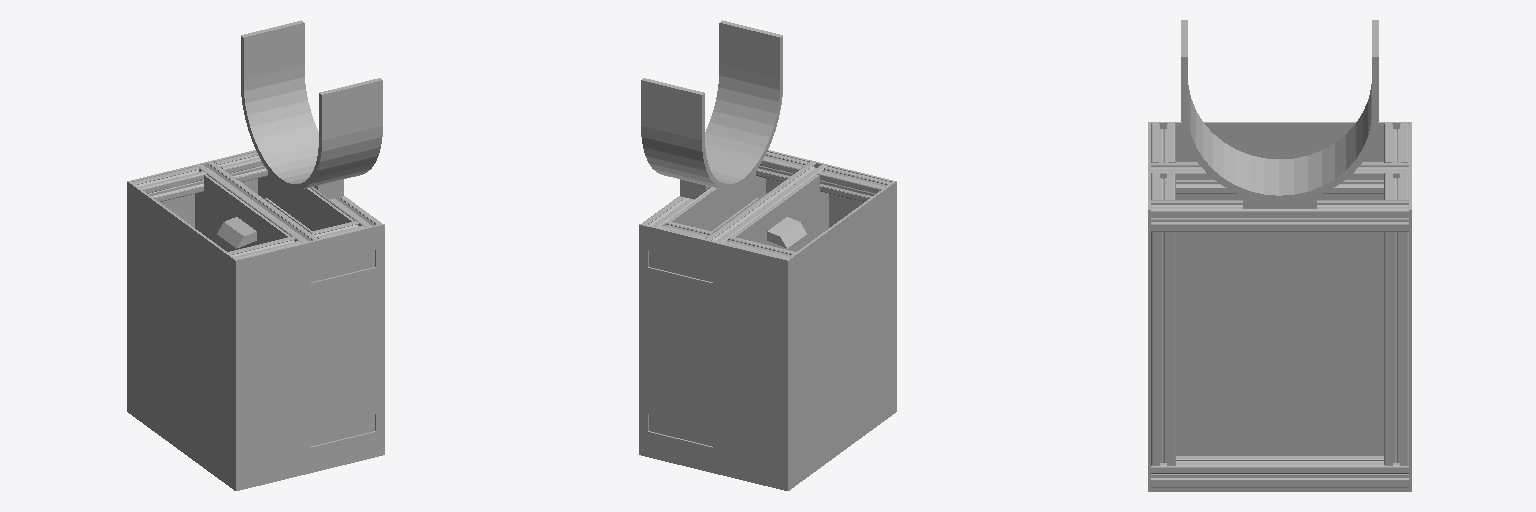
URDF robot description (051410):
<?xml version="1.0" encoding="utf-8"?>
<!-- This URDF was automatically created by SolidWorks to URDF Exporter! Originally created by [author] ([email redacted]) 
     Commit Version: 1.5.1-0-g916b5db  Build Version: 1.5.7152.31018
     For more information, please see http://wiki.ros.org/sw_urdf_exporter -->
<robot
  name="051410">
  <link
    name="Body">
    <inertial>
      <origin
        xyz="-0.0585567936495662 0.108885138044438 -0.142308649679038"
        rpy="0 0 0" />
      <mass
        value="5.32485366509136" />
      <inertia
        ixx="0.023203020823872"
        ixy="4.01751561825012E-06"
        ixz="7.80337093935825E-06"
        iyy="0.0219378727233069"
        iyz="-1.47975198134051E-06"
        izz="0.0149047739346839" />
    </inertial>
    <visual>
      <origin
        xyz="0 0 0"
        rpy="0 0 0" />
      <geometry>
        <mesh
          filename="package://051410/meshes/Body.STL" />
      </geometry>
      <material
        name="">
        <color
          rgba="0.752941176470588 0.752941176470588 0.752941176470588 1" />
      </material>
    </visual>
    <collision>
      <origin
        xyz="0 0 0"
        rpy="0 0 0" />
      <geometry>
        <mesh
          filename="package://051410/meshes/Body.STL" />
      </geometry>
    </collision>
  </link>
  <link
    name="LFS">
    <inertial>
      <origin
        xyz="0.0666875210853818 -0.0256174029954353 0.0272583251967585"
        rpy="0 0 0" />
      <mass
        value="0.26437001106024" />
      <inertia
        ixx="3.20746276473133E-05"
        ixy="-1.44118283521332E-07"
        ixz="-6.30853084344598E-08"
        iyy="6.22704126338855E-05"
        iyz="-2.01894652764198E-07"
        izz="6.28519936954E-05" />
    </inertial>
    <visual>
      <origin
        xyz="0 0 0"
        rpy="0 0 0" />
      <geometry>
        <mesh
          filename="package://051410/meshes/LFS.STL" />
      </geometry>
      <material
        name="">
        <color
          rgba="0.752941176470588 0.752941176470588 0.752941176470588 1" />
      </material>
    </visual>
    <collision>
      <origin
        xyz="0 0 0"
        rpy="0 0 0" />
      <geometry>
        <mesh
          filename="package://051410/meshes/LFS.STL" />
      </geometry>
    </collision>
  </link>
  <joint
    name="LFS"
    type="prismatic">
    <origin
      xyz="-0.0264270997401359 0.315160991135077 -0.0508115623588097"
      rpy="-1.87842660467749 0 -1.5707963267949" />
    <parent
      link="Body" />
    <child
      link="LFS" />
    <axis
      xyz="0 0.302801016091279 -0.953053799454201" />
    <limit
      lower="0"
      upper="0"
      effort="0"
      velocity="0" />
  </joint>
  <link
    name="LFW">
    <inertial>
      <origin
        xyz="-0.012315724574073 0 3.46944695195361E-18"
        rpy="0 0 0" />
      <mass
        value="0.193585420779862" />
      <inertia
        ixx="0.000253081141332254"
        ixy="-2.20697783538624E-23"
        ixz="8.87721135180224E-22"
        iyy="0.000136818598566517"
        iyz="0"
        izz="0.000136818598566517" />
    </inertial>
    <visual>
      <origin
        xyz="0 0 0"
        rpy="0 0 0" />
      <geometry>
        <mesh
          filename="package://051410/meshes/LFW.STL" />
      </geometry>
      <material
        name="">
        <color
          rgba="1 1 1 1" />
      </material>
    </visual>
    <collision>
      <origin
        xyz="0 0 0"
        rpy="0 0 0" />
      <geometry>
        <mesh
          filename="package://051410/meshes/LFW.STL" />
      </geometry>
    </collision>
  </link>
  <joint
    name="LFW"
    type="continuous">
    <origin
      xyz="0.000410991135076755 -0.0474789038855384 0.0523091236506849"
      rpy="-1.87071350905913 0 3.14159265358979" />
    <parent
      link="LFS" />
    <child
      link="LFW" />
    <axis
      xyz="1 0 0" />
    <limit
      effort="3.1"
      velocity="7" />
  </joint>
  <link
    name="RFS">
    <inertial>
      <origin
        xyz="0.0724473276378503 -0.0316832521314763 0.0253402400459297"
        rpy="0 0 0" />
      <mass
        value="0.26437001106024" />
      <inertia
        ixx="3.20746276473134E-05"
        ixy="1.44118283521343E-07"
        ixz="6.30853084344513E-08"
        iyy="6.22704126338856E-05"
        iyz="-2.01894652764198E-07"
        izz="6.28519936954001E-05" />
    </inertial>
    <visual>
      <origin
        xyz="0 0 0"
        rpy="0 0 0" />
      <geometry>
        <mesh
          filename="package://051410/meshes/RFS.STL" />
      </geometry>
      <material
        name="">
        <color
          rgba="0.752941176470588 0.752941176470588 0.752941176470588 1" />
      </material>
    </visual>
    <collision>
      <origin
        xyz="0 0 0"
        rpy="0 0 0" />
      <geometry>
        <mesh
          filename="package://051410/meshes/RFS.STL" />
      </geometry>
    </collision>
  </link>
  <joint
    name="RFS"
    type="prismatic">
    <origin
      xyz="-0.0264270997401362 -0.104920797687545 -0.0121278542793212"
      rpy="1.2631660489123 0 1.5707963267949" />
    <parent
      link="Body" />
    <child
      link="RFS" />
    <axis
      xyz="0 0.302801016091279 -0.953053799454201" />
    <limit
      lower="0"
      upper="0"
      effort="0"
      velocity="0" />
  </joint>
  <link
    name="RFW">
    <inertial>
      <origin
        xyz="-0.012315724574073 0 0"
        rpy="0 0 0" />
      <mass
        value="0.193585420779862" />
      <inertia
        ixx="0.000253081141332254"
        ixy="1.52152873461367E-21"
        ixz="2.90805277918717E-21"
        iyy="0.000136818598566517"
        iyz="-2.71050543121376E-20"
        izz="0.000136818598566517" />
    </inertial>
    <visual>
      <origin
        xyz="0 0 0"
        rpy="0 0 0" />
      <geometry>
        <mesh
          filename="package://051410/meshes/RFW.STL" />
      </geometry>
      <material
        name="">
        <color
          rgba="1 1 1 1" />
      </material>
    </visual>
    <collision>
      <origin
        xyz="0 0 0"
        rpy="0 0 0" />
      <geometry>
        <mesh
          filename="package://051410/meshes/RFW.STL" />
      </geometry>
    </collision>
  </link>
  <joint
    name="RFW"
    type="continuous">
    <origin
      xyz="0.00617079768754525 -0.0282861353526375 0.0584053345271756"
      rpy="-0.707139785690461 0 3.14159265358979" />
    <parent
      link="RFS" />
    <child
      link="RFW" />
    <axis
      xyz="1 0 0" />
    <limit
      effort="3.1"
      velocity="7" />
  </joint>
  <link
    name="LBS">
    <inertial>
      <origin
        xyz="0.0754022136877308 -0.0206011352566475 0.0126264314730576"
        rpy="0 0 0" />
      <mass
        value="0.197009126147877" />
      <inertia
        ixx="1.68802738687172E-05"
        ixy="-4.80839139040385E-21"
        ixz="2.20356918157704E-20"
        iyy="5.02184885667569E-05"
        iyz="1.0508875929185E-06"
        izz="4.72447473350486E-05" />
    </inertial>
    <visual>
      <origin
        xyz="0 0 0"
        rpy="0 0 0" />
      <geometry>
        <mesh
          filename="package://051410/meshes/LBS.STL" />
      </geometry>
      <material
        name="">
        <color
          rgba="0.752941176470588 0.752941176470588 0.752941176470588 1" />
      </material>
    </visual>
    <collision>
      <origin
        xyz="0 0 0"
        rpy="0 0 0" />
      <geometry>
        <mesh
          filename="package://051410/meshes/LBS.STL" />
      </geometry>
    </collision>
  </link>
  <joint
    name="LBS"
    type="prismatic">
    <origin
      xyz="-0.0177695299742091 0.315160991135077 -0.230811562358817"
      rpy="-1.87842660467749 0 -1.5707963267949" />
    <parent
      link="Body" />
    <child
      link="LBS" />
    <axis
      xyz="0 0.30280101609128 -0.953053799454201" />
    <limit
      lower="0"
      upper="0"
      effort="0"
      velocity="0" />
  </joint>
  <link
    name="LBC">
    <inertial>
      <origin
        xyz="0.000464526735874993 -0.0408313152633741 0"
        rpy="0 0 0" />
      <mass
        value="0.0433962459602619" />
      <inertia
        ixx="2.1180042472488E-05"
        ixy="5.53822046363831E-07"
        ixz="-7.94093388050907E-23"
        iyy="1.76453344713605E-06"
        iyz="-5.82666023482353E-21"
        izz="2.14947085785555E-05" />
    </inertial>
    <visual>
      <origin
        xyz="0 0 0"
        rpy="0 0 0" />
      <geometry>
        <mesh
          filename="package://051410/meshes/LBC.STL" />
      </geometry>
      <material
        name="">
        <color
          rgba="0.898039215686275 0.917647058823529 0.929411764705882 1" />
      </material>
    </visual>
    <collision>
      <origin
        xyz="0 0 0"
        rpy="0 0 0" />
      <geometry>
        <mesh
          filename="package://051410/meshes/LBC.STL" />
      </geometry>
    </collision>
  </link>
  <joint
    name="LBC"
    type="continuous">
    <origin
      xyz="0.0411609911350767 -0.0168161225555064 0.000713258979880046"
      rpy="-1.87842355251803 -0.00139263512405185 3.13720937469085" />
    <parent
      link="LBS" />
    <child
      link="LBC" />
    <axis
      xyz="0 1 0" />
  </joint>
  <link
    name="LBW">
    <inertial>
      <origin
        xyz="0.00647305835345524 0 0"
        rpy="0 0 0" />
      <mass
        value="0.0368891747697499" />
      <inertia
        ixx="1.67269024516251E-05"
        ixy="-6.05909798695093E-22"
        ixz="6.3097337125545E-21"
        iyy="8.87926239042531E-06"
        iyz="-3.17637355220363E-22"
        izz="8.87926239042531E-06" />
    </inertial>
    <visual>
      <origin
        xyz="0 0 0"
        rpy="0 0 0" />
      <geometry>
        <mesh
          filename="package://051410/meshes/LBW.STL" />
      </geometry>
      <material
        name="">
        <color
          rgba="1 1 1 1" />
      </material>
    </visual>
    <collision>
      <origin
        xyz="0 0 0"
        rpy="0 0 0" />
      <geometry>
        <mesh
          filename="package://051410/meshes/LBW.STL" />
      </geometry>
    </collision>
  </link>
  <joint
    name="LBW"
    type="continuous">
    <origin
      xyz="0.00950027498126405 -0.0683043960407024 0"
      rpy="-2.96618061334499 0 0" />
    <parent
      link="LBC" />
    <child
      link="LBW" />
    <axis
      xyz="1 0 0" />
    <limit
      effort="3.1"
      velocity="7" />
  </joint>
  <link
    name="RBS">
    <inertial>
      <origin
        xyz="0.0754022136877307 -0.0206011352566388 0.0126264314730556"
        rpy="0 0 0" />
      <mass
        value="0.197009126147877" />
      <inertia
        ixx="1.68802738687172E-05"
        ixy="1.02892964589924E-20"
        ixz="-2.43477299444764E-20"
        iyy="5.0218488566757E-05"
        iyz="1.0508875929185E-06"
        izz="4.72447473350487E-05" />
    </inertial>
    <visual>
      <origin
        xyz="0 0 0"
        rpy="0 0 0" />
      <geometry>
        <mesh
          filename="package://051410/meshes/RBS.STL" />
      </geometry>
      <material
        name="">
        <color
          rgba="0.752941176470588 0.752941176470588 0.752941176470588 1" />
      </material>
    </visual>
    <collision>
      <origin
        xyz="0 0 0"
        rpy="0 0 0" />
      <geometry>
        <mesh
          filename="package://051410/meshes/RBS.STL" />
      </geometry>
    </collision>
  </link>
  <joint
    name="RBS"
    type="prismatic">
    <origin
      xyz="-0.0177695299742046 -0.0991609911350767 -0.199190174459287"
      rpy="1.2631660489123 0 1.5707963267949" />
    <parent
      link="Body" />
    <child
      link="RBS" />
    <axis
      xyz="0 0.302801016091279 -0.953053799454201" />
    <limit
      lower="0"
      upper="0"
      effort="0"
      velocity="0" />
  </joint>
  <link
    name="RBC">
    <inertial>
      <origin
        xyz="0.000464526735875062 -0.0408313152633741 -5.55111512312578E-17"
        rpy="0 0 0" />
      <mass
        value="0.0433962459602619" />
      <inertia
        ixx="2.1180042472488E-05"
        ixy="5.53822046363839E-07"
        ixz="-2.72020875327765E-22"
        iyy="1.76453344713605E-06"
        iyz="-3.31898023349275E-21"
        izz="2.14947085785555E-05" />
    </inertial>
    <visual>
      <origin
        xyz="0 0 0"
        rpy="0 0 0" />
      <geometry>
        <mesh
          filename="package://051410/meshes/RBC.STL" />
      </geometry>
      <material
        name="">
        <color
          rgba="0.898039215686275 0.917647058823529 0.929411764705882 1" />
      </material>
    </visual>
    <collision>
      <origin
        xyz="0 0 0"
        rpy="0 0 0" />
      <geometry>
        <mesh
          filename="package://051410/meshes/RBC.STL" />
      </geometry>
    </collision>
  </link>
  <joint
    name="RBC"
    type="continuous">
    <origin
      xyz="0.0411609911350767 -0.0168161225554979 0.000713258979877965"
      rpy="-1.87842660467749 0 3.14159265358979" />
    <parent
      link="RBS" />
    <child
      link="RBC" />
    <axis
      xyz="0 1 0" />
  </joint>
  <link
    name="RBW">
    <inertial>
      <origin
        xyz="0.00647333333471937 -5.55111512312578E-17 -5.55111512312578E-17"
        rpy="0 0 0" />
      <mass
        value="0.0368891747697499" />
      <inertia
        ixx="1.67269024516251E-05"
        ixy="-2.32726892683381E-21"
        ixz="-4.86067499904064E-21"
        iyy="8.8792623904253E-06"
        iyz="-8.470329472543E-22"
        izz="8.8792623904253E-06" />
    </inertial>
    <visual>
      <origin
        xyz="0 0 0"
        rpy="0 0 0" />
      <geometry>
        <mesh
          filename="package://051410/meshes/RBW.STL" />
      </geometry>
      <material
        name="">
        <color
          rgba="1 1 1 1" />
      </material>
    </visual>
    <collision>
      <origin
        xyz="0 0 0"
        rpy="0 0 0" />
      <geometry>
        <mesh
          filename="package://051410/meshes/RBW.STL" />
      </geometry>
    </collision>
  </link>
  <joint
    name="RBW"
    type="continuous">
    <origin
      xyz="0.0095 -0.068304 0"
      rpy="0.99137 0 0" />
    <parent
      link="RBC" />
    <child
      link="RBW" />
    <axis
      xyz="1 0 0" />
    <limit
      effort="3.1"
      velocity="7" />
  </joint>
  <link
    name="front_cam">
    <inertial>
      <origin
        xyz="0.0498359968949385 0.0617836354959193 0.0687226592240569"
        rpy="0 0 0" />
      <mass
        value="0.0436119950287128" />
      <inertia
        ixx="4.29479133591131E-06"
        ixy="-8.85791114123023E-10"
        ixz="-1.01813691701125E-09"
        iyy="2.21058141232447E-05"
        iyz="2.17579681215275E-08"
        izz="2.35707058046401E-05" />
    </inertial>
    <visual>
      <origin
        xyz="0 0 0"
        rpy="0 0 0" />
      <geometry>
        <mesh
          filename="package://051410/meshes/front_cam.STL" />
      </geometry>
      <material
        name="">
        <color
          rgba="0.792156862745098 0.819607843137255 0.933333333333333 1" />
      </material>
    </visual>
    <collision>
      <origin
        xyz="0 0 0"
        rpy="0 0 0" />
      <geometry>
        <mesh
          filename="package://051410/meshes/front_cam.STL" />
      </geometry>
    </collision>
  </link>
  <joint
    name="front_cam"
    type="fixed">
    <origin
      xyz="-0.069504 0.058161 -0.080278"
      rpy="0 0 1.5708" />
    <parent
      link="Body" />
    <child
      link="front_cam" />
    <axis
      xyz="0 0 0" />
  </joint>
  <link
    name="ball_cam">
    <inertial>
      <origin
        xyz="0.049835996914947 0.0617836350059216 -0.00374618107736442"
        rpy="0 0 0" />
      <mass
        value="0.0436119951630769" />
      <inertia
        ixx="4.29479053059234E-06"
        ixy="-8.85260765864428E-10"
        ixz="-1.01843552507355E-09"
        iyy="2.21058148138205E-05"
        iyz="2.17580969417583E-08"
        izz="2.35707057054939E-05" />
    </inertial>
    <visual>
      <origin
        xyz="0 0 0"
        rpy="0 0 0" />
      <geometry>
        <mesh
          filename="package://051410/meshes/ball_cam.STL" />
      </geometry>
      <material
        name="">
        <color
          rgba="0.792156862745098 0.819607843137255 0.933333333333333 1" />
      </material>
    </visual>
    <collision>
      <origin
        xyz="0 0 0"
        rpy="0 0 0" />
      <geometry>
        <mesh
          filename="package://051410/meshes/ball_cam.STL" />
      </geometry>
    </collision>
  </link>
  <joint
    name="ball_cam"
    type="fixed">
    <origin
      xyz="-0.044286 0.058165 -0.048961"
      rpy="0.63132 0 1.5708" />
    <parent
      link="Body" />
    <child
      link="ball_cam" />
    <axis
      xyz="0 0 0" />
  </joint>
  <link
    name="Lidar">
    <inertial>
      <origin
        xyz="-0.0784930224009144 -0.74442743376688 -0.133449662212527"
        rpy="0 0 0" />
      <mass
        value="0.0730845703902162" />
      <inertia
        ixx="1.95808756635695E-05"
        ixy="4.28391179298426E-07"
        ixz="-1.03933565415068E-07"
        iyy="4.14184515330581E-05"
        iyz="-9.42709167560455E-09"
        izz="2.41250078994433E-05" />
    </inertial>
    <visual>
      <origin
        xyz="0 0 0"
        rpy="0 0 0" />
      <geometry>
        <mesh
          filename="package://051410/meshes/Lidar.STL" />
      </geometry>
      <material
        name="">
        <color
          rgba="0.792156862745098 0.819607843137255 0.933333333333333 1" />
      </material>
    </visual>
    <collision>
      <origin
        xyz="0 0 0"
        rpy="0 0 0" />
      <geometry>
        <mesh
          filename="package://051410/meshes/Lidar.STL" />
      </geometry>
    </collision>
  </link>
  <joint
    name="Lidar"
    type="fixed">
    <origin
      xyz="0.57169 0.24092 -0.098561"
      rpy="1.5708 -1.5708 0" />
    <parent
      link="Body" />
    <child
      link="Lidar" />
    <axis
      xyz="0 0 0" />
  </joint>
</robot>

--- Render facts (derived) ---
3 views of the same robot in one strip: view 1: azimuth 30°, elevation 25°; view 2: azimuth 150°, elevation 25°; view 3: azimuth 270°, elevation 25° (orthographic).
Robot: 051410 — 14 links, 13 joints (6 continuous, 4 prismatic, 3 fixed); root link Body; default pose: all joints at 0.
Links seen in each view (by area): view 1: Body; view 2: Body; view 3: Body.
Link boxes in pixels (bbox=[...]): Body: bbox=[127, 20, 384, 490]; Body: bbox=[639, 20, 896, 490]; Body: bbox=[1148, 20, 1411, 491].
Size in the robot's own frame: 0.1845 by 0.216 by 0.3973 metres.
1 mesh visuals loaded from 14 distinct referenced files (1 binary STL); not drawn: 13 (reference not matched to a file when rendering).